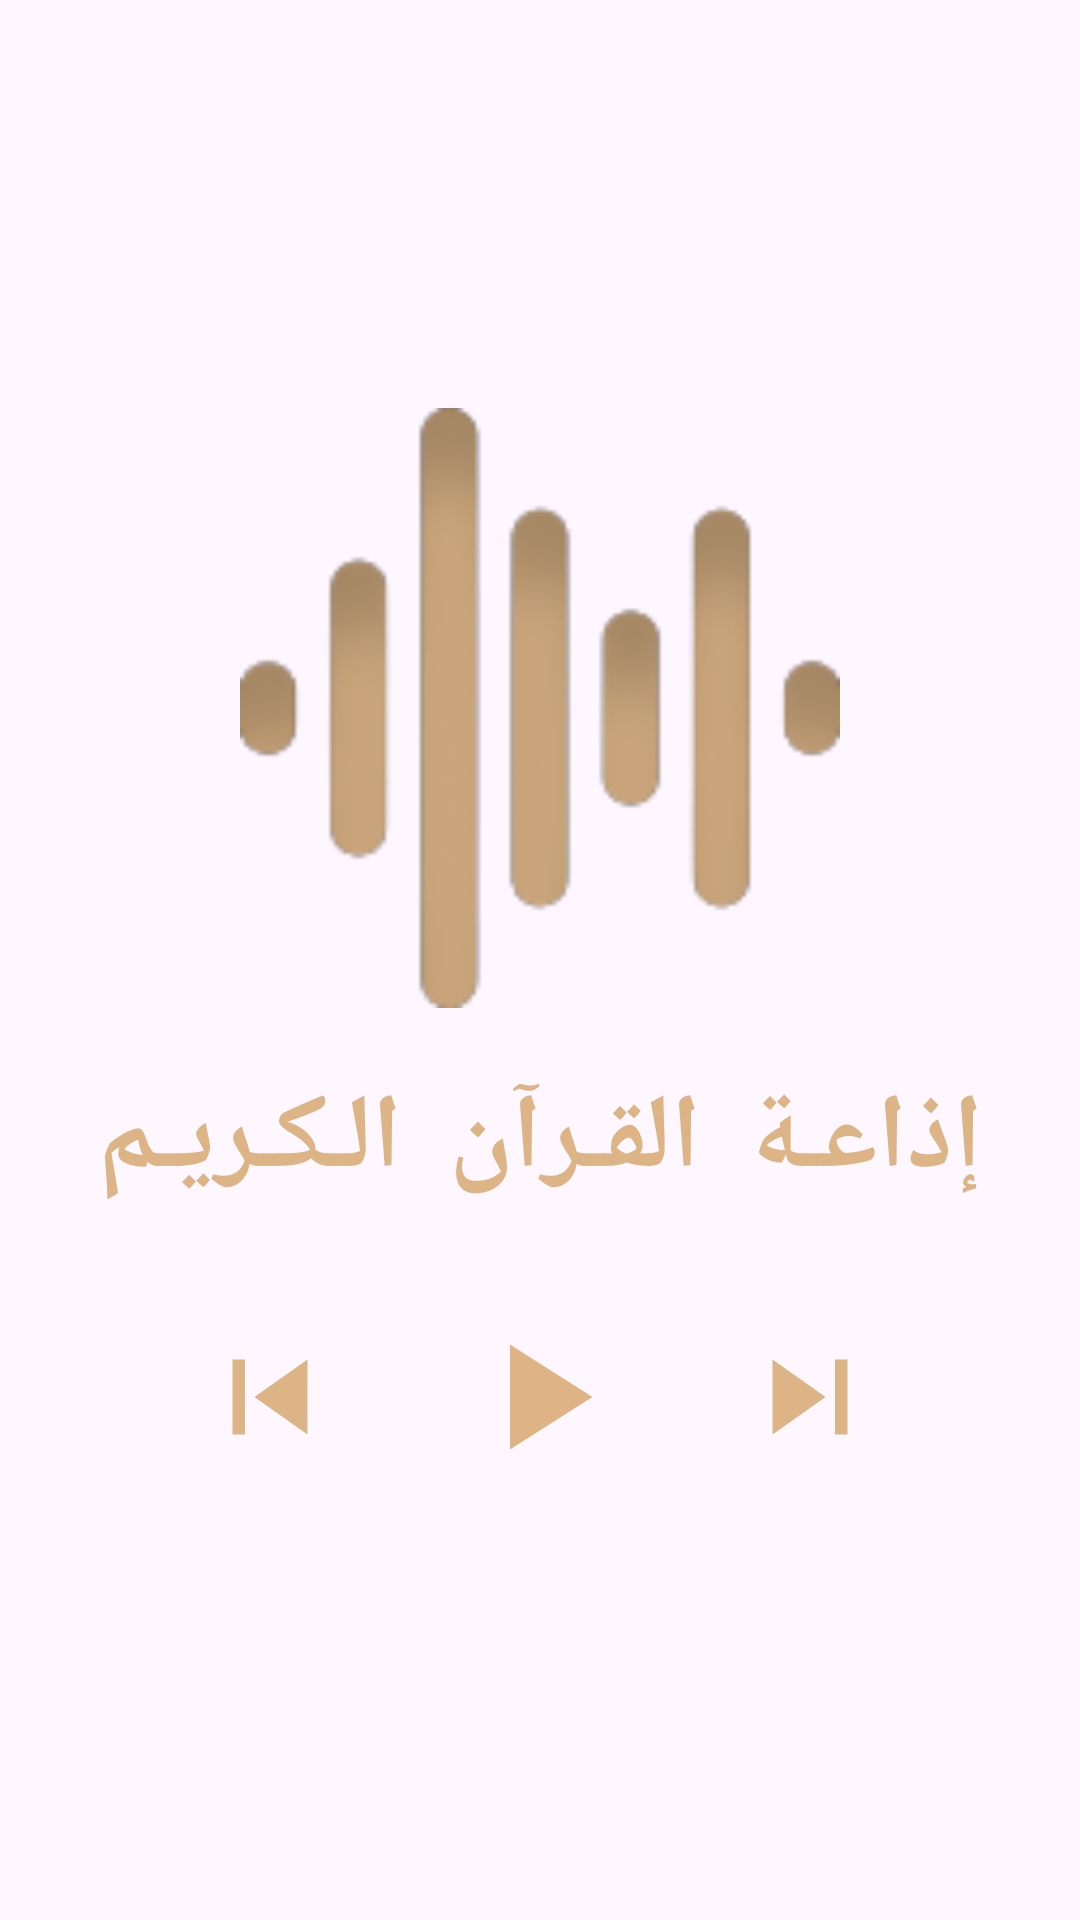

Named icons in this screenshot (1080 x 1920) and their bounding boxes, box(x1, y1, x2, y2):
play arrow: box(510, 1345, 592, 1449)
skip next: box(772, 1359, 848, 1435)
skip previous: box(232, 1359, 308, 1435)
